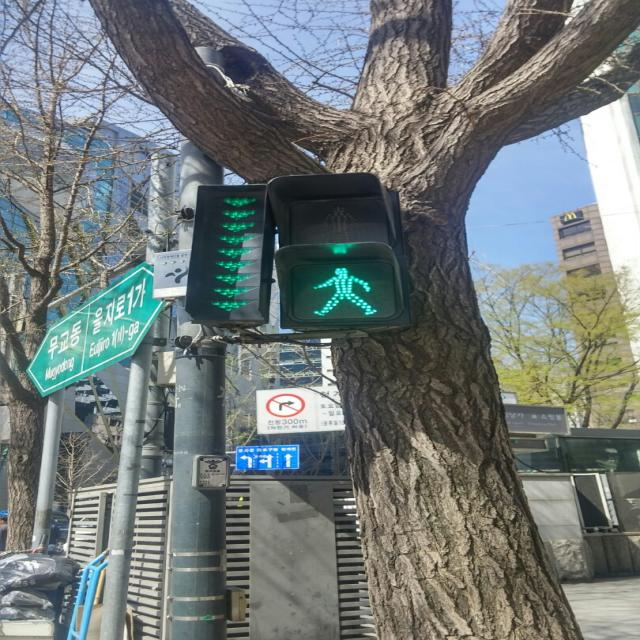Go: (279, 248, 404, 323)
